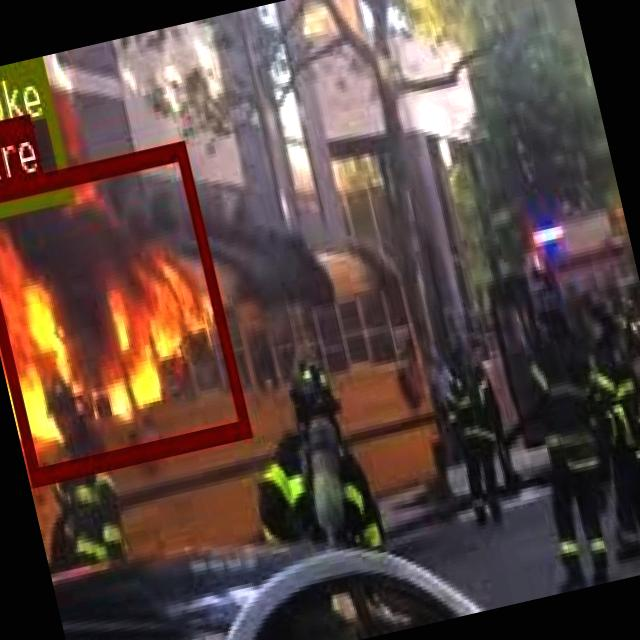fire: (0, 138, 248, 481)
smoke: (0, 56, 70, 217)
